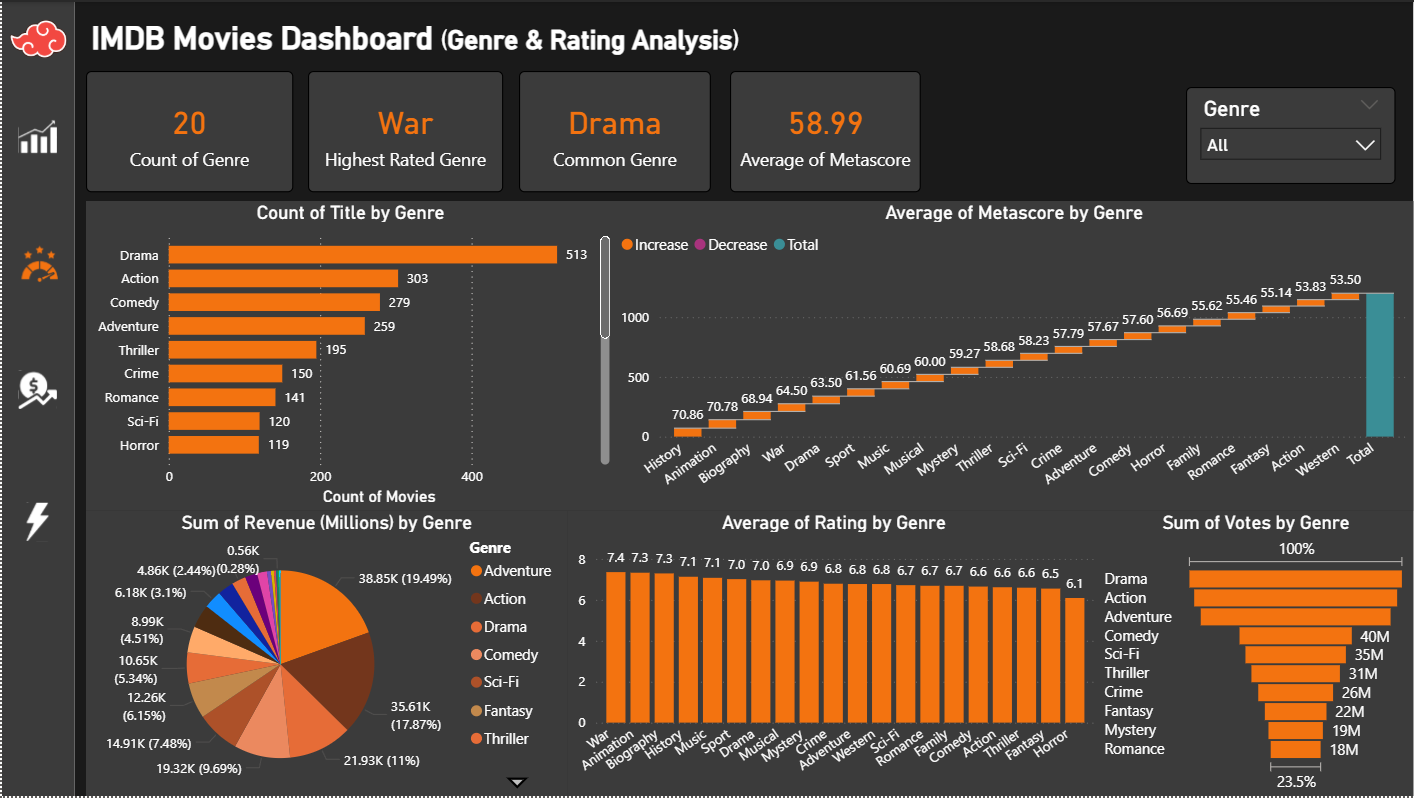

What the dashboard file says about the page in this screenshot:
{"tool":"powerbi","page":{"name":"Movie Genres","canvas":[1280,720],"ordinal":1},"visuals":[{"type":"shape","box":[0,0,66.3,720.2],"z":0},{"type":"actionButton","box":[11,99.4,42.9,44.2],"z":1000},{"type":"actionButton","box":[12.3,214.7,42.9,44.2],"z":2000},{"type":"actionButton","box":[11,328.8,42.9,44.2],"z":3000},{"type":"actionButton","box":[11,449.1,42.9,44.2],"z":4000},{"type":"image","box":[0,0,66.3,67.5],"z":5000},{"type":"shape","box":[66.3,0,1213.5,720.2],"z":6000},{"type":"textbox","box":[76.1,11,754.6,44.2],"z":7000},{"type":"slicer","fields":{"Values":["IMDB-Movie-Data.Genre"]},"box":[1073.6,77.3,190.2,88.3],"z":8000},{"type":"card","fields":{"Values":["Count(IMDB-Movie-Data.Genre)"]},"box":[76.1,62.6,187.7,110.4],"z":9000},{"type":"card","fields":{"Values":["IMDB-Movie-Data.Highest Rated Genre"]},"box":[277.3,62.6,176.7,110.4],"z":10000},{"type":"card","fields":{"Values":["IMDB-Movie-Data.Common Genre"]},"box":[468.7,62.6,174.2,110.4],"z":11000},{"type":"card","fields":{"Values":["Avg(IMDB-Movie-Data_Org.Metascore)"]},"box":[660.1,62.6,173,110.4],"z":12000},{"type":"barChart","fields":{"Category":["IMDB-Movie-Data.Genre"],"Y":["Count(IMDB-Movie-Data.Title)"]},"box":[76.1,180.4,479.8,281],"z":13000},{"type":"columnChart","fields":{"Y":["Avg(IMDB-Movie-Data.Rating)"],"Category":["IMDB-Movie-Data.Genre"]},"box":[512.9,461.4,482.2,258.9],"z":14000},{"type":"pieChart","fields":{"Category":["IMDB-Movie-Data.Genre"],"Y":["Sum(IMDB-Movie-Data.Revenue (Millions))"]},"box":[76.1,461.4,436.8,258.9],"z":15000},{"type":"waterfallChart","fields":{"Category":["IMDB-Movie-Data.Genre"],"Y":["Avg(IMDB-Movie-Data.Metascore)"]},"box":[555.8,180.4,723.9,281],"z":16000},{"type":"funnel","fields":{"Category":["IMDB-Movie-Data.Genre"],"Y":["Sum(IMDB-Movie-Data.Votes)"]},"box":[995.1,461.4,284.7,258.9],"z":17000}]}

Visuals, with their boxes in screenshot pixels (x1, y1, x2, y2), scaled from the page's 1280x720 canvas onto the 1414x798 screenshot:
shape: [0, 0, 73, 797]
actionButton: [12, 110, 60, 159]
actionButton: [14, 238, 61, 287]
actionButton: [12, 364, 60, 413]
actionButton: [12, 498, 60, 547]
image: [0, 0, 73, 75]
shape: [73, 0, 1413, 797]
textbox: [84, 12, 918, 61]
slicer - IMDB-Movie-Data.Genre: [1186, 86, 1396, 184]
card - Count(IMDB-Movie-Data.Genre): [84, 69, 291, 192]
card - IMDB-Movie-Data.Highest Rated Genre: [306, 69, 502, 192]
card - IMDB-Movie-Data.Common Genre: [518, 69, 710, 192]
card - Avg(IMDB-Movie-Data_Org.Metascore): [729, 69, 920, 192]
barChart - IMDB-Movie-Data.Genre x Count(IMDB-Movie-Data.Title): [84, 200, 614, 511]
columnChart - Avg(IMDB-Movie-Data.Rating) x IMDB-Movie-Data.Genre: [567, 511, 1099, 797]
pieChart - IMDB-Movie-Data.Genre x Sum(IMDB-Movie-Data.Revenue (Millions)): [84, 511, 567, 797]
waterfallChart - IMDB-Movie-Data.Genre x Avg(IMDB-Movie-Data.Metascore): [614, 200, 1413, 511]
funnel - IMDB-Movie-Data.Genre x Sum(IMDB-Movie-Data.Votes): [1099, 511, 1413, 797]
